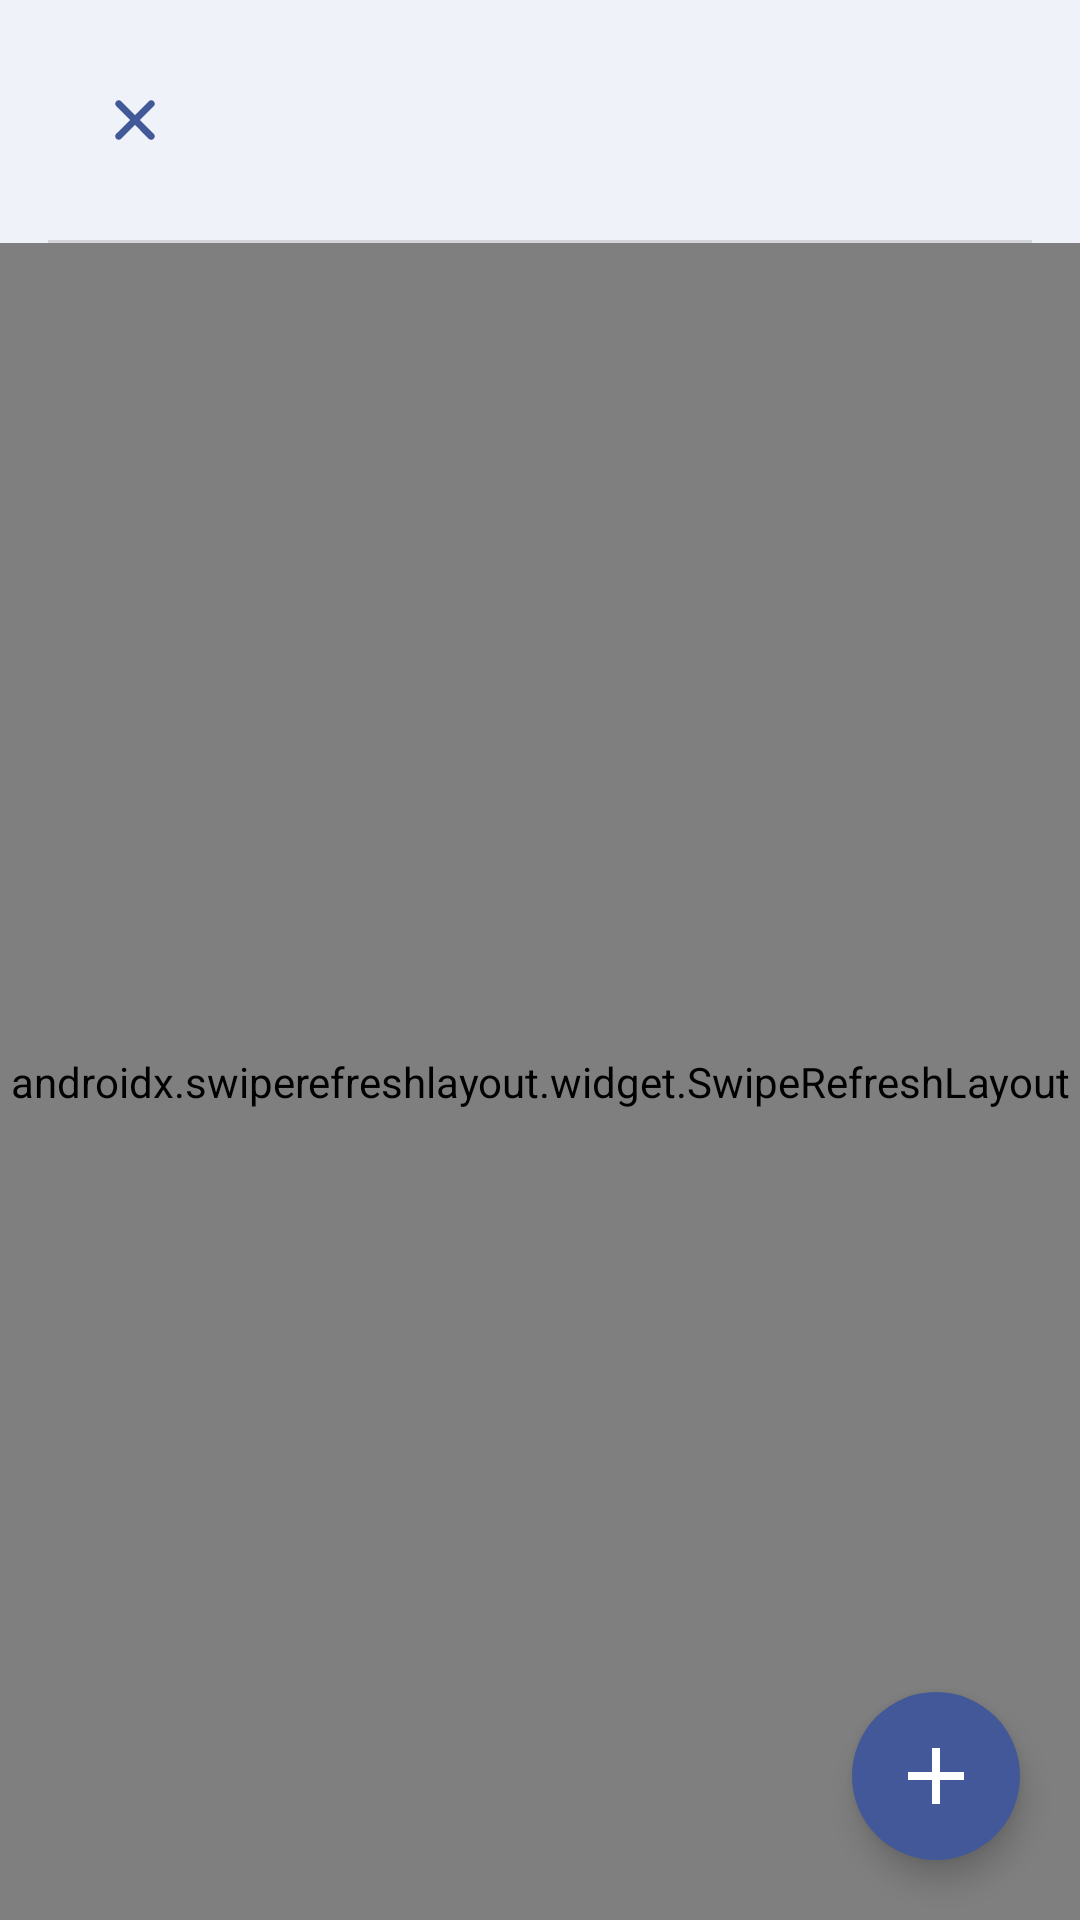

Screen size 1080 x 1920. Icon name, then its box in pixels as (x1, y1, x2, y2):
add: (852, 1692, 1020, 1860)
cross: (115, 100, 155, 140)
